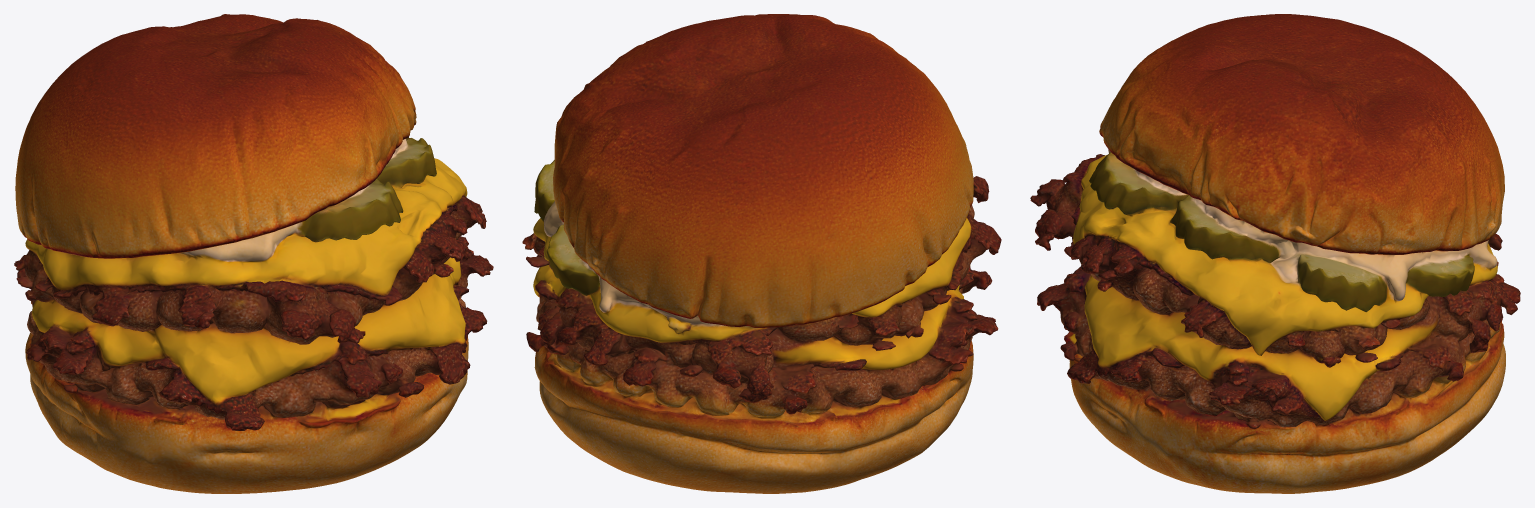
The model's file is signature-smash-raw.glb.
The picture shows the model from 3 angles, left to right: view 1: azimuth 30°, elevation 25°; view 2: azimuth 150°, elevation 25°; view 3: azimuth 270°, elevation 25°; orthographic projection. The views are drawn at different scales.
Parts seen in each view (by area): view 1: tripo_node_a8f8282e-700f-4b05-afa5-5cfe89fcd346; view 2: tripo_node_a8f8282e-700f-4b05-afa5-5cfe89fcd346; view 3: tripo_node_a8f8282e-700f-4b05-afa5-5cfe89fcd346.
Part boxes in pixels (bbox=[...]): tripo_node_a8f8282e-700f-4b05-afa5-5cfe89fcd346: bbox=[14, 14, 493, 493]; tripo_node_a8f8282e-700f-4b05-afa5-5cfe89fcd346: bbox=[522, 14, 1001, 493]; tripo_node_a8f8282e-700f-4b05-afa5-5cfe89fcd346: bbox=[1030, 14, 1520, 493].
Size of the model in its own units: 0.9929 by 0.8362 by 1.
Materials: 1 (1 with a texture image).
